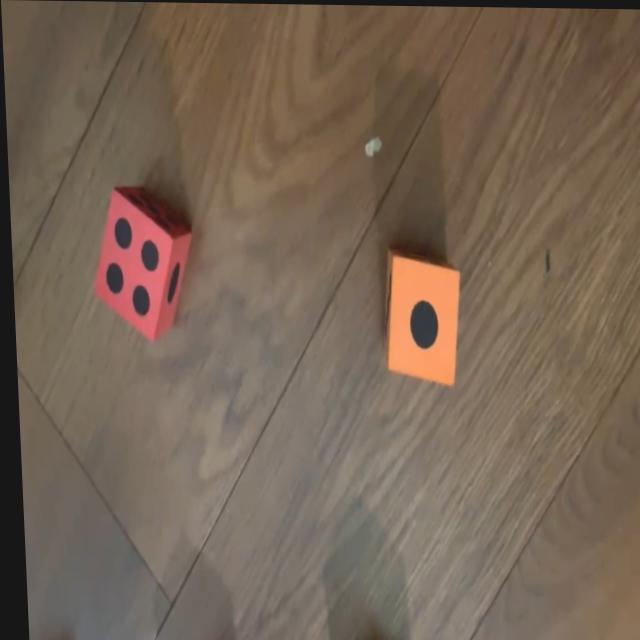red_block: (87, 185, 193, 341)
